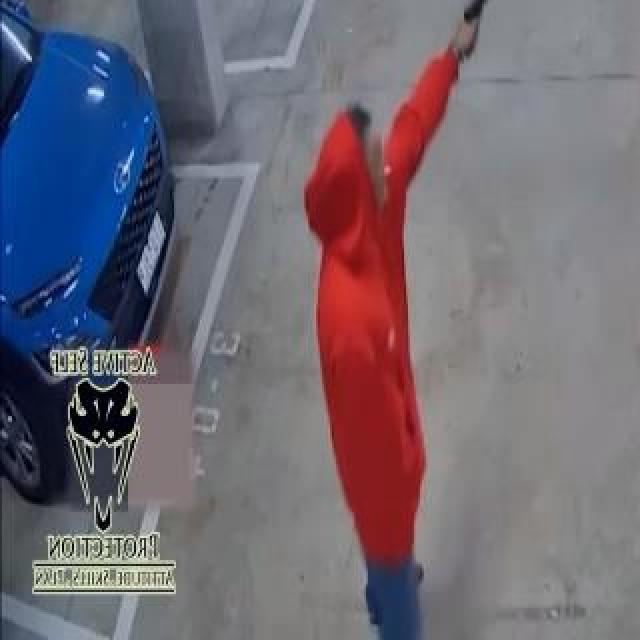Guns: (454, 0, 496, 54)
